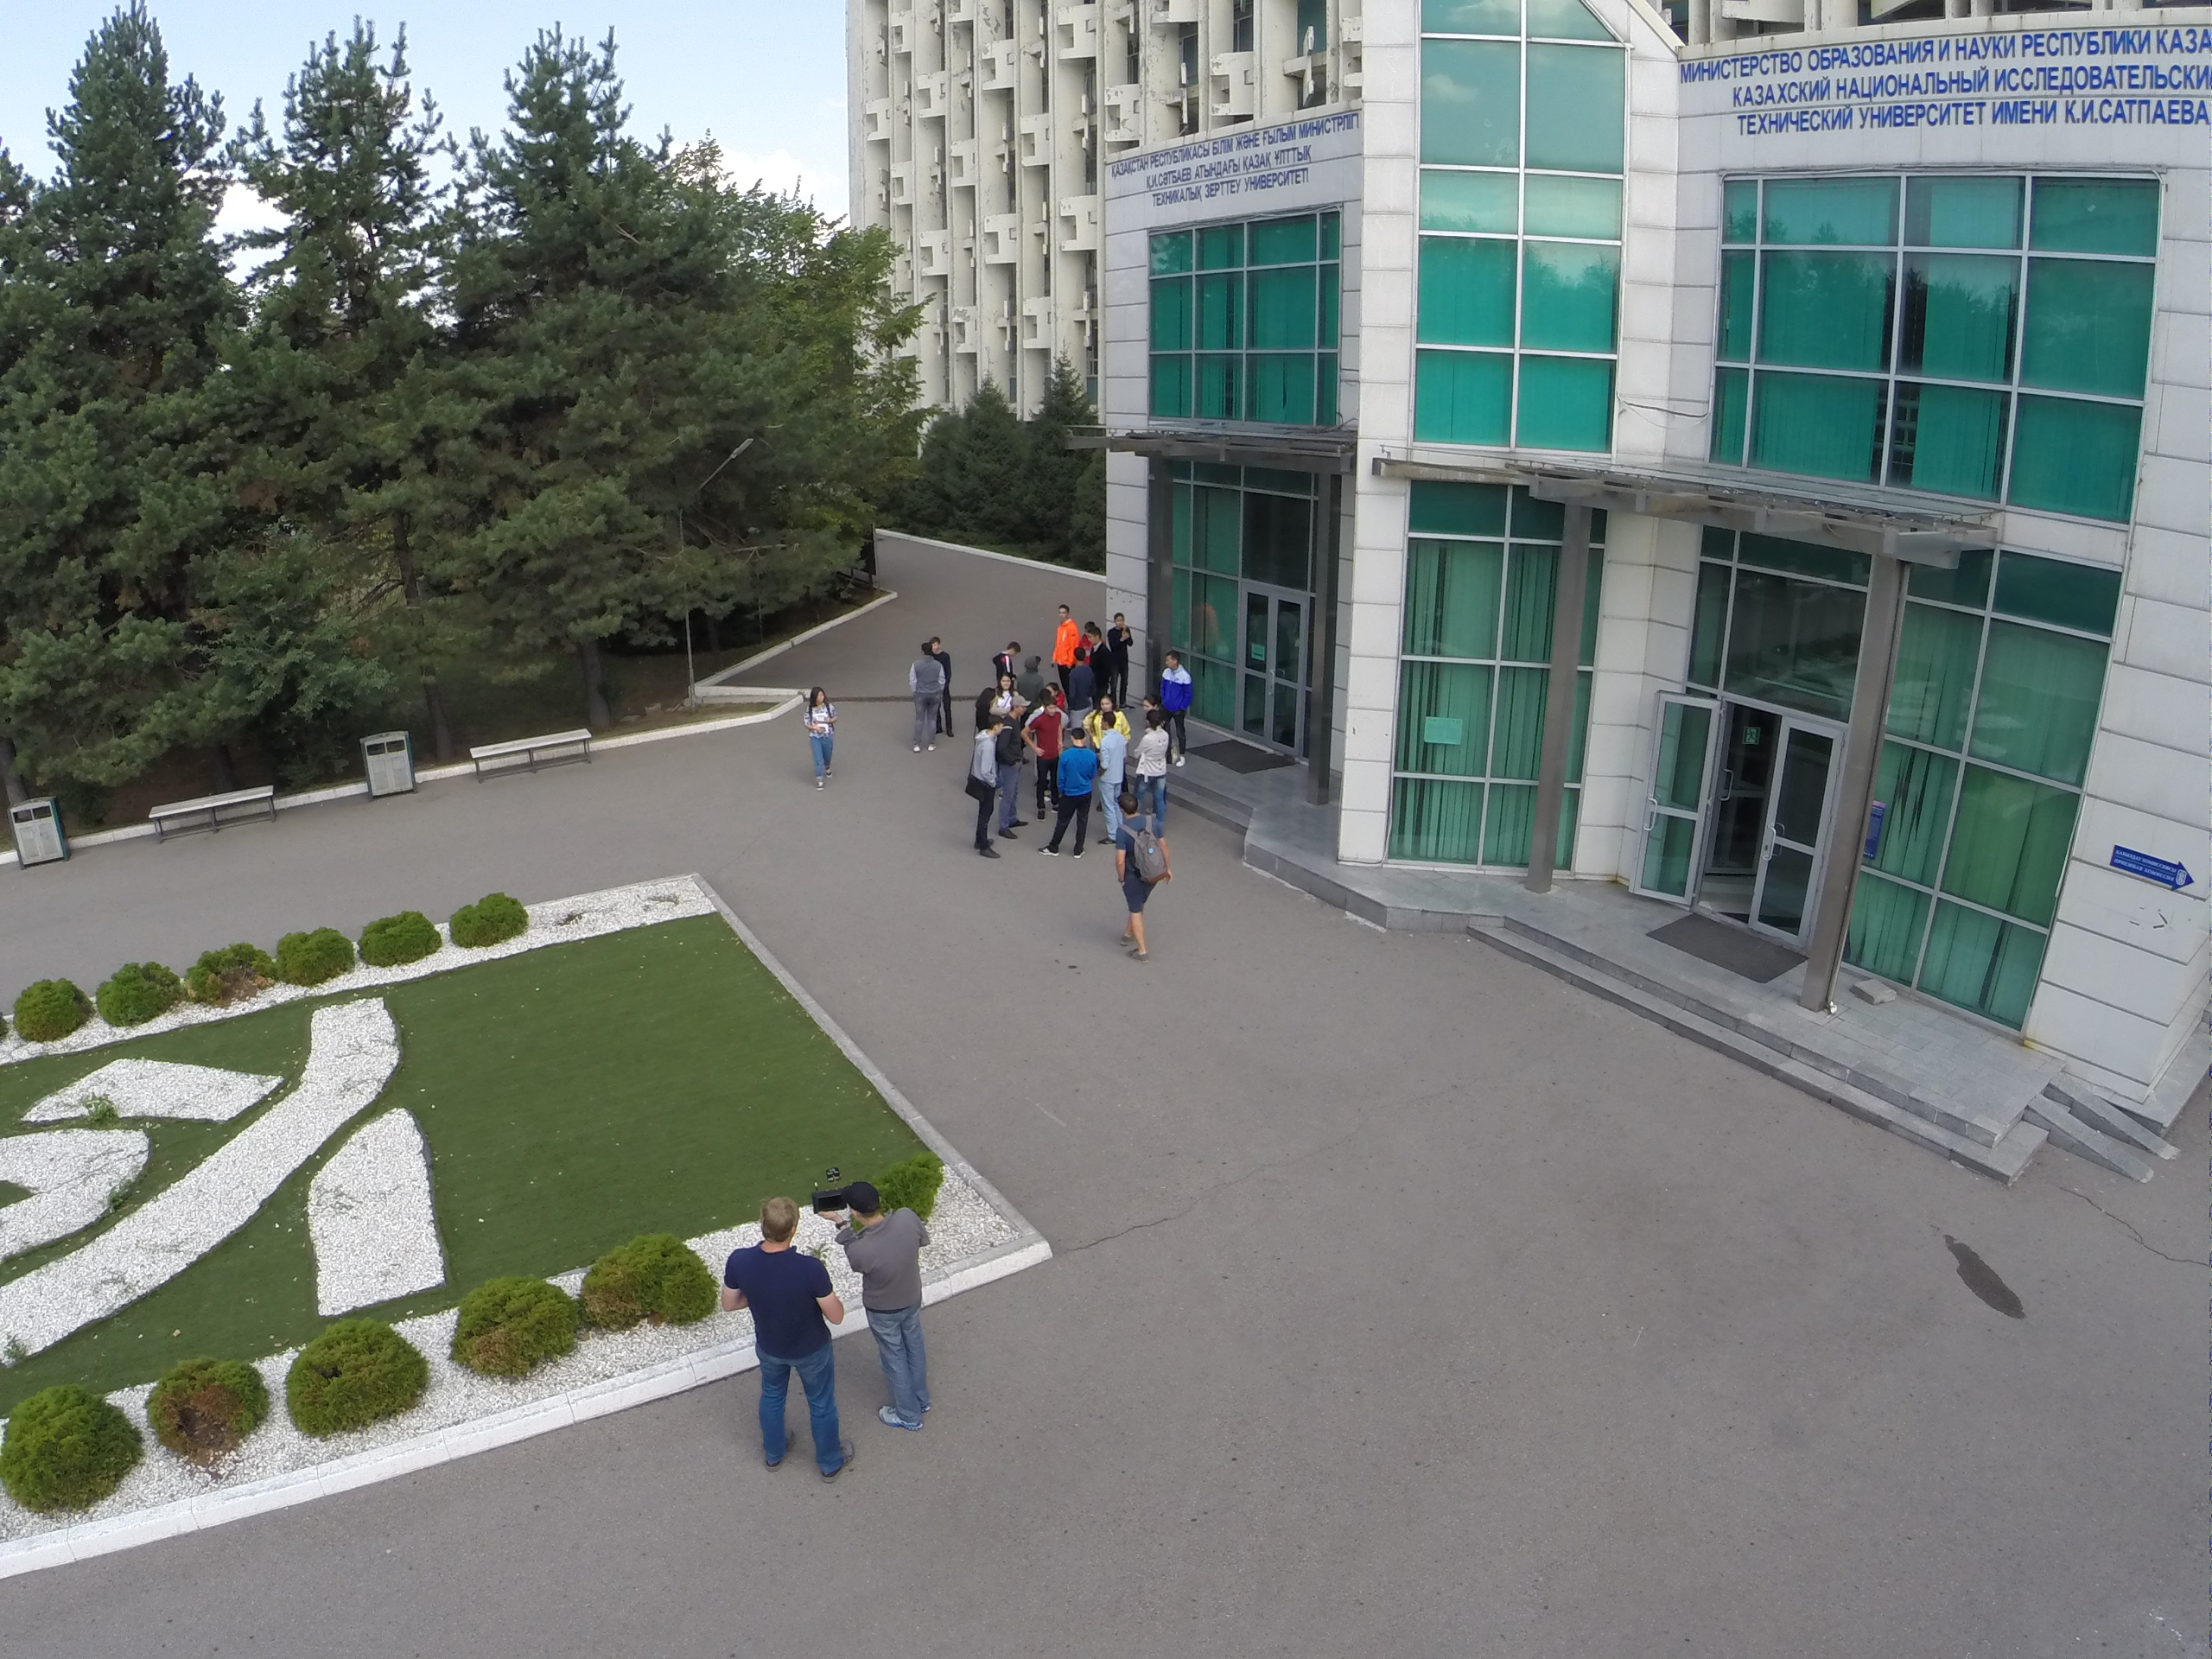person: (717, 1189, 860, 1482), (832, 1185, 931, 1439), (1105, 788, 1175, 964), (962, 717, 1005, 861), (1053, 728, 1096, 857), (797, 685, 837, 796), (1161, 650, 1199, 768), (1135, 710, 1170, 829), (902, 645, 942, 753), (1000, 696, 1028, 846), (1095, 711, 1124, 849), (1036, 699, 1063, 816), (931, 639, 958, 742), (1108, 611, 1135, 713), (1051, 601, 1072, 673), (1016, 650, 1044, 696), (973, 679, 999, 731), (995, 639, 1018, 676), (996, 676, 1014, 696)
